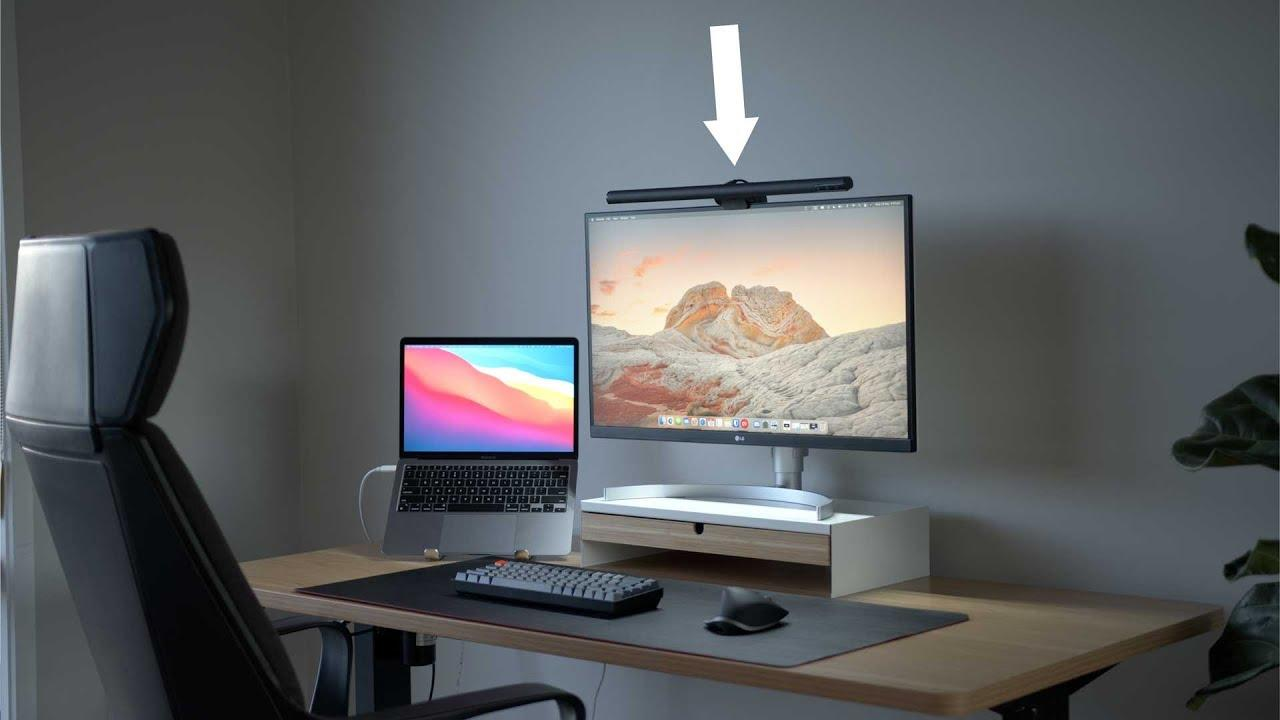monitor: (581, 189, 920, 525), (391, 325, 583, 566)
